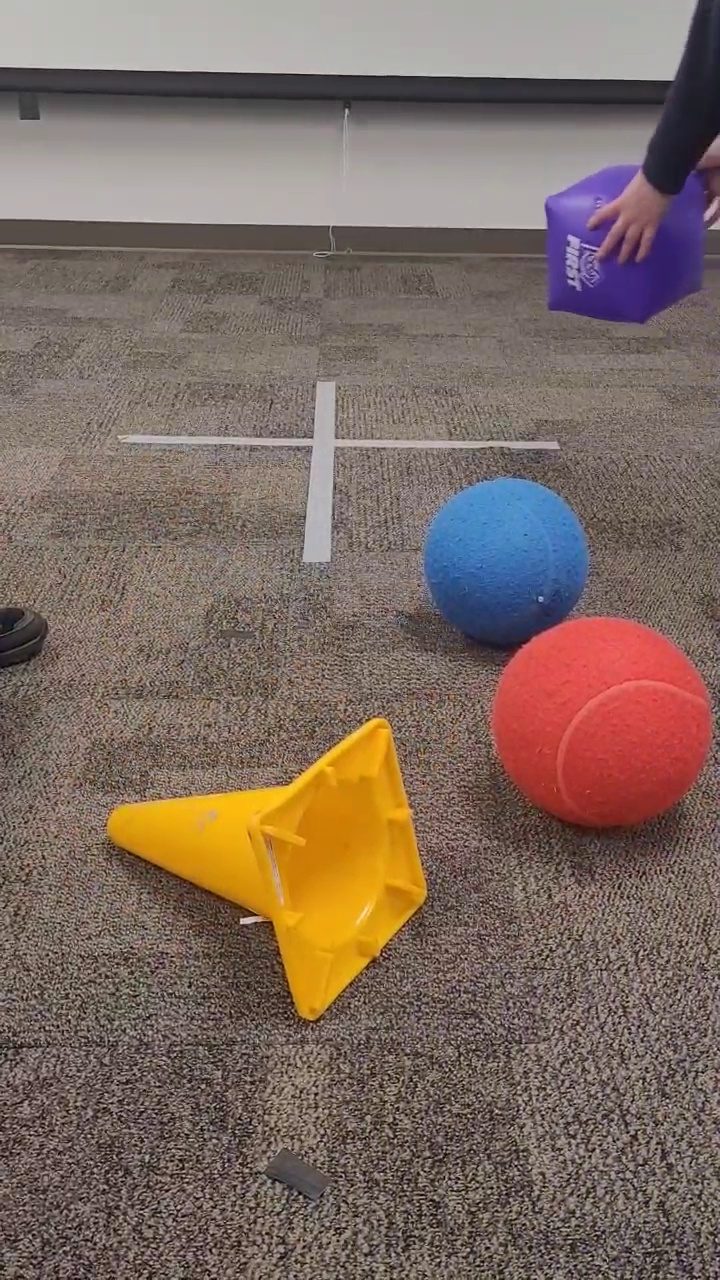ball: (488, 613, 713, 834), (419, 474, 592, 647)
cone: (103, 713, 430, 1026)
cube: (539, 157, 720, 327)
foot: (1, 601, 52, 675)
hand: (580, 2, 720, 271)
